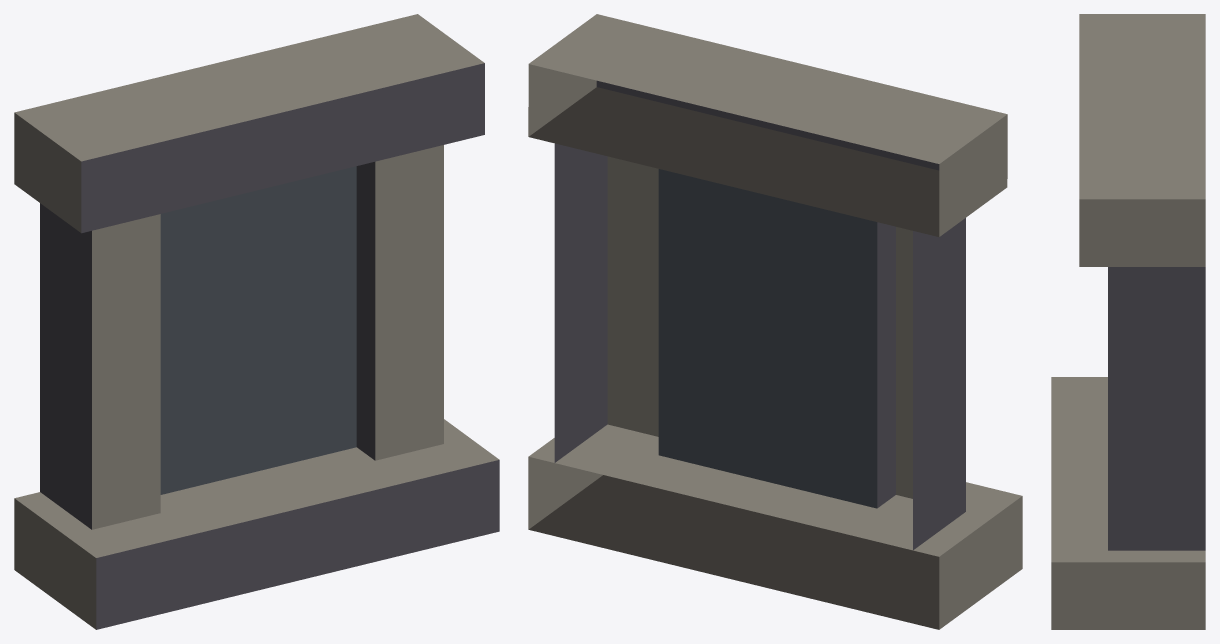
The model's file is TB_D_Bd_Window_C.FBX.
3 views of the same model, side by side, from view 1: azimuth 30°, elevation 25°; view 2: azimuth 150°, elevation 25°; view 3: azimuth 270°, elevation 25° (orthographic). The views are drawn at different scales.
Parts seen in each view (by area): view 1: TB_D_Bd_Window_C; view 2: TB_D_Bd_Window_C; view 3: TB_D_Bd_Window_C.
Boxes of the visible parts, left/top/right/bottom form: TB_D_Bd_Window_C: left=14, top=14, right=499, bottom=629; TB_D_Bd_Window_C: left=528, top=14, right=1022, bottom=629; TB_D_Bd_Window_C: left=1051, top=14, right=1205, bottom=629.
Size of the model in its own units: 0.94 by 1.02 by 0.3302.
